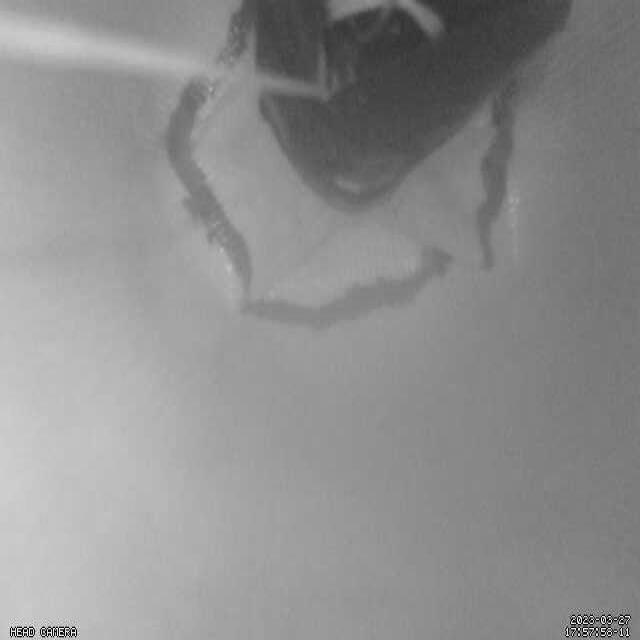red-circle: (156, 1, 522, 323)
